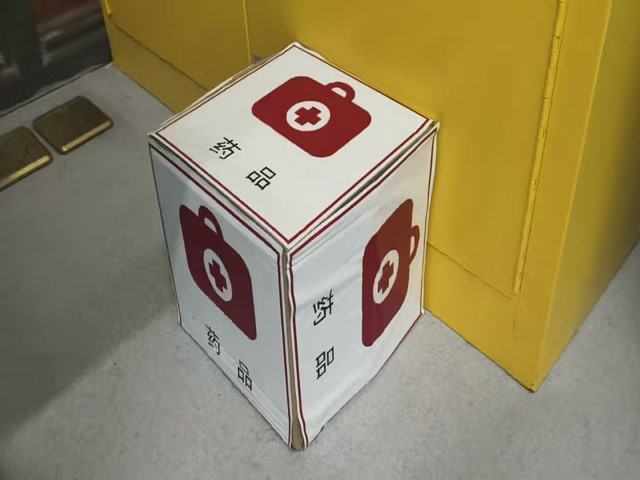Cube_medicine: (150, 44, 437, 259)
